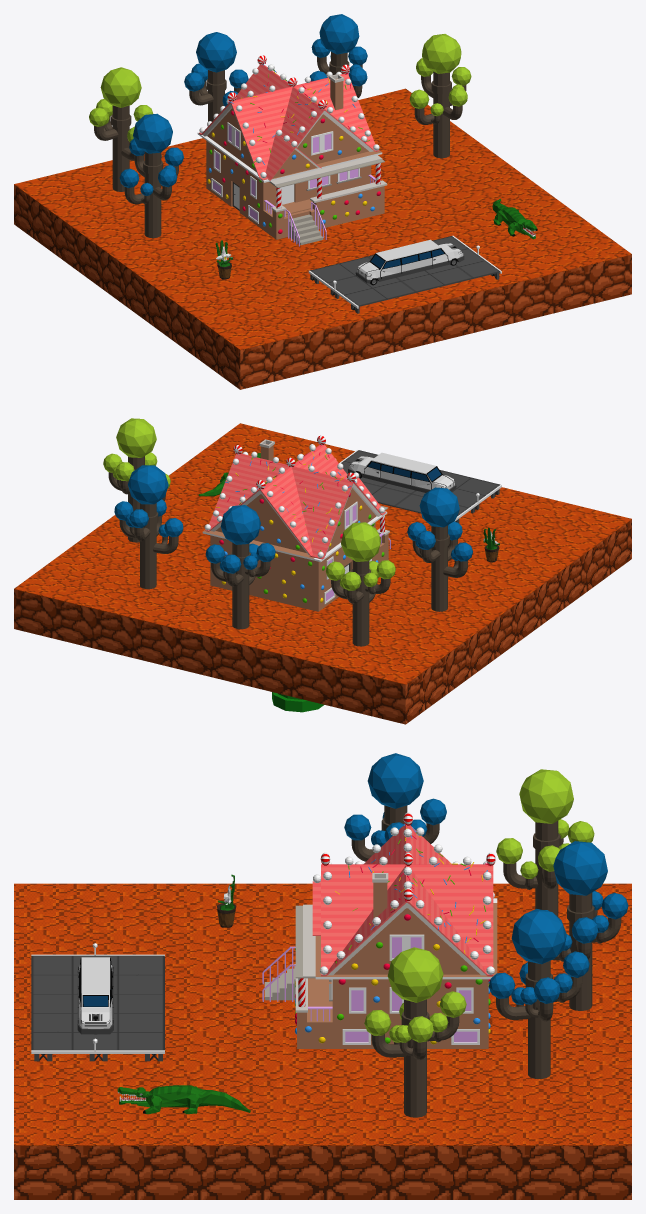
3 views of the same model, one above another, from view 1: azimuth 30°, elevation 25°; view 2: azimuth 150°, elevation 25°; view 3: azimuth 270°, elevation 25° (orthographic). The views are drawn at different scales.
Visible parts, largest first — view 1: Cube.001, Cube.1203, VEHICLES_LIMOUSINE, ANIMAL_COCODRILO; view 2: Cube.001, Cube.1203, VEHICLES_LIMOUSINE, UNDERGROUND_PIPES; view 3: Cube.001, Cube.1203, VEHICLES_LIMOUSINE, ANIMAL_COCODRILO.
Boxes of the visible parts, x1,y1,x2,y2 form: Cube.001: [14, 14, 631, 389]; Cube.1203: [197, 55, 387, 246]; VEHICLES_LIMOUSINE: [355, 239, 464, 285]; ANIMAL_COCODRILO: [492, 198, 537, 239]; Cube.001: [14, 418, 631, 724]; Cube.1203: [202, 435, 390, 611]; VEHICLES_LIMOUSINE: [348, 452, 456, 492]; UNDERGROUND_PIPES: [272, 692, 324, 712]; Cube.001: [14, 753, 631, 1199]; Cube.1203: [262, 812, 497, 1048]; VEHICLES_LIMOUSINE: [77, 957, 113, 1034]; ANIMAL_COCODRILO: [117, 1085, 250, 1114].
Bounding box in the file's own units: 4000 × 2247 × 4000.
Materials: 43 (5 with a texture image).
